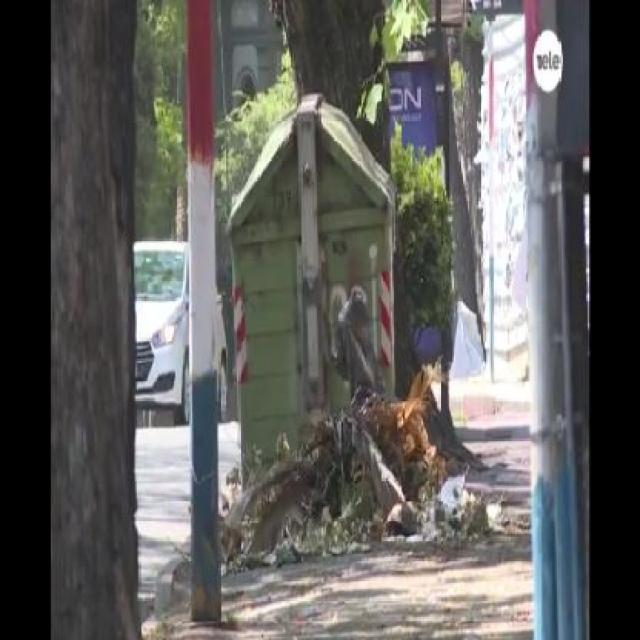garbage: (223, 386, 546, 572), (322, 288, 394, 410)
